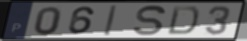0: (31, 5, 64, 36)
3: (204, 5, 233, 37)
6: (67, 6, 96, 36)
D: (165, 5, 201, 36)
I: (103, 5, 119, 37)
S: (132, 4, 168, 37)
